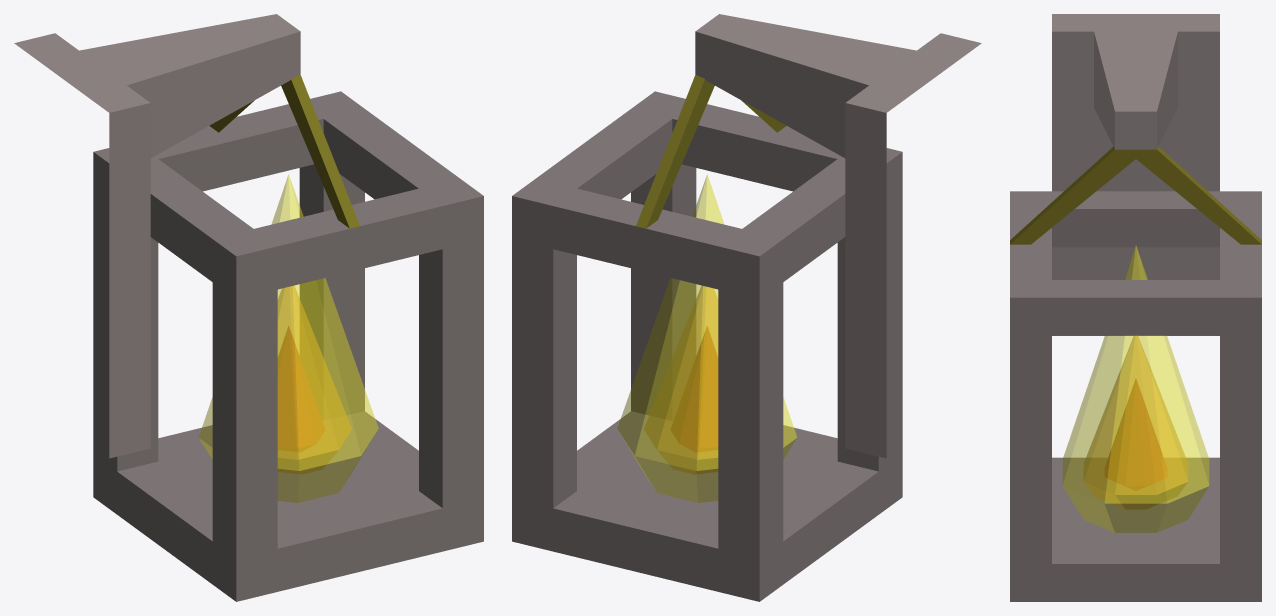
3 renders of one model, left to right at view 1: azimuth 30°, elevation 25°; view 2: azimuth 150°, elevation 25°; view 3: azimuth 270°, elevation 25°, orthographic. The views are drawn at different scales.
Bounding box in the file's own units: 34 × 46 × 24.
Materials: 2 (2 with a texture image).
